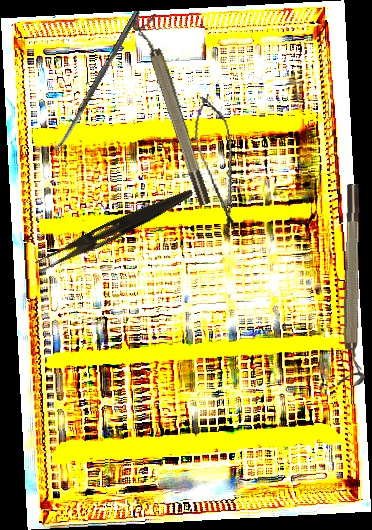Dressing Forceps: (33, 180, 196, 279)
Fixation Ring: (130, 13, 215, 210), (336, 183, 372, 387)
Micro Scissor: (187, 91, 250, 237)
Surgical Spoon: (51, 8, 141, 157)
